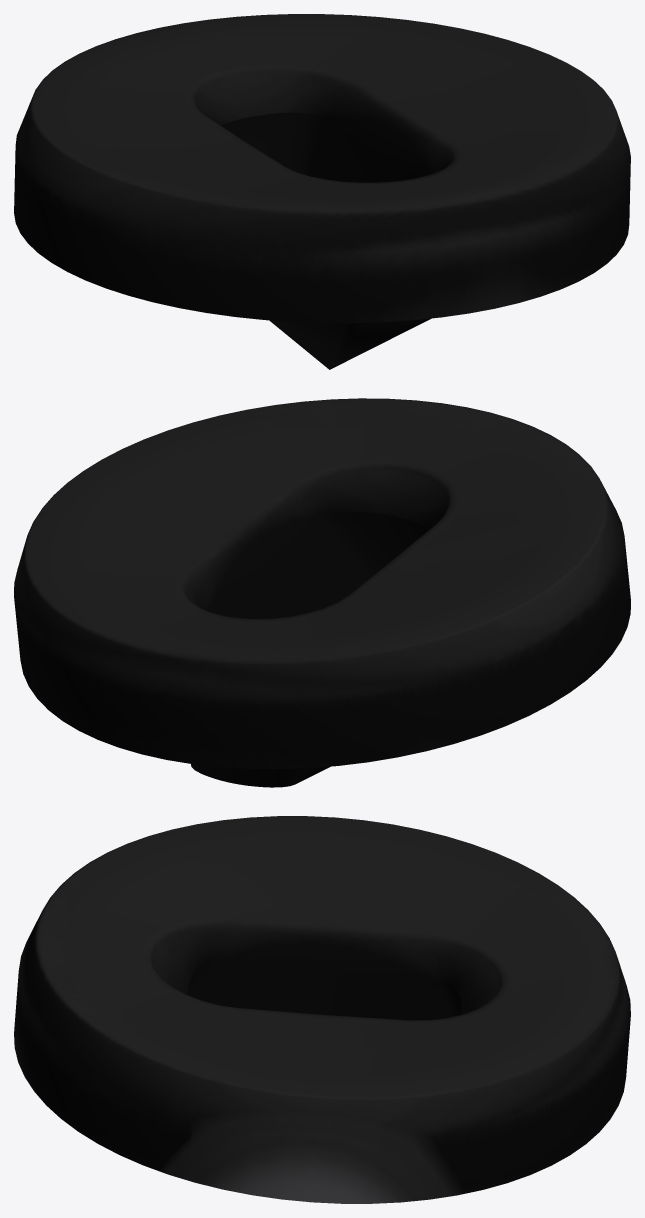
Rendered from trackpad_scroll_cut_right.obj.
3 views of the same model, one above another, from view 1: azimuth 30°, elevation 25°; view 2: azimuth 150°, elevation 25°; view 3: azimuth 270°, elevation 25° (orthographic).
Parts seen in each view (by area): view 1: touchpad_scroll_cut; view 2: touchpad_scroll_cut; view 3: touchpad_scroll_cut.
Part boxes in pixels (x1=…): touchpad_scroll_cut: x1=14, y1=14, x2=630, y2=369; touchpad_scroll_cut: x1=14, y1=398, x2=630, y2=787; touchpad_scroll_cut: x1=14, y1=816, x2=630, y2=1203.
Size of the model in its own units: 0.038 by 0.0178 by 0.038.
Materials: 1 (1 with a texture image).
